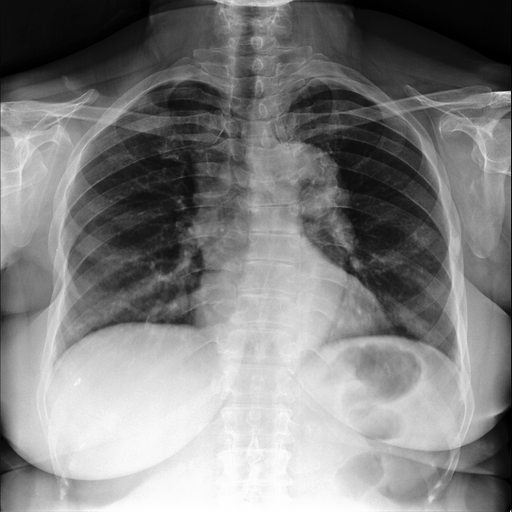Consolidation: (255, 139, 348, 224)
